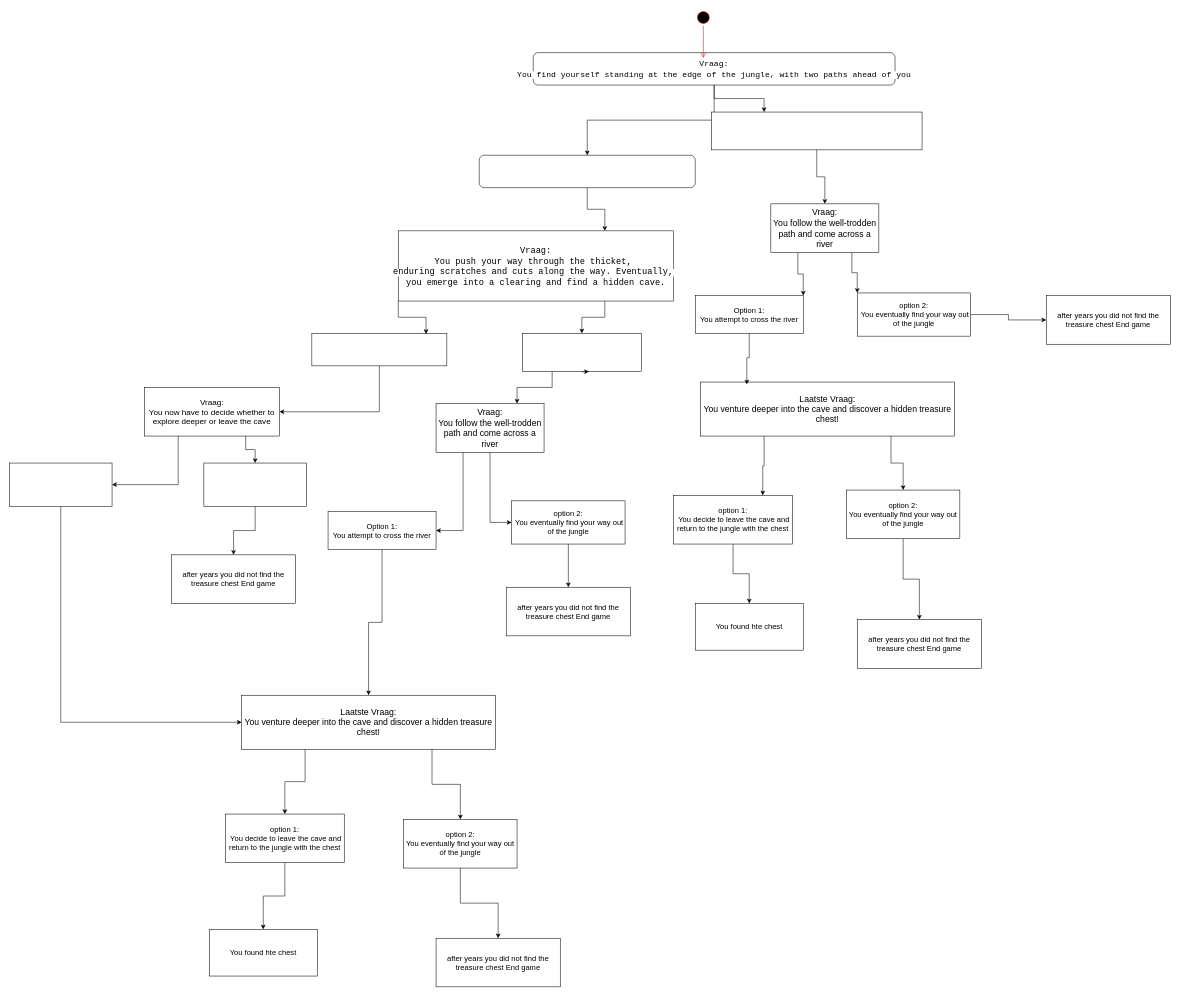
Image size: 1180x996. Some labels were removed from this diagram. Each missing label, with the centre of its shape:
Option 1. Do you enter the cave?: pixel 379 349
Option 1: Explore deeper into the cave: pixel 60 484
Option 1: This path leads through a dense thicket of thorns: pixel 587 171
Option 2 This path seems to be clear and well-trodden: pixel 816 131
Option 2. Do you continue on the path?: pixel 581 352
option 2: Leave the cave and go back to the jungle: pixel 254 484
